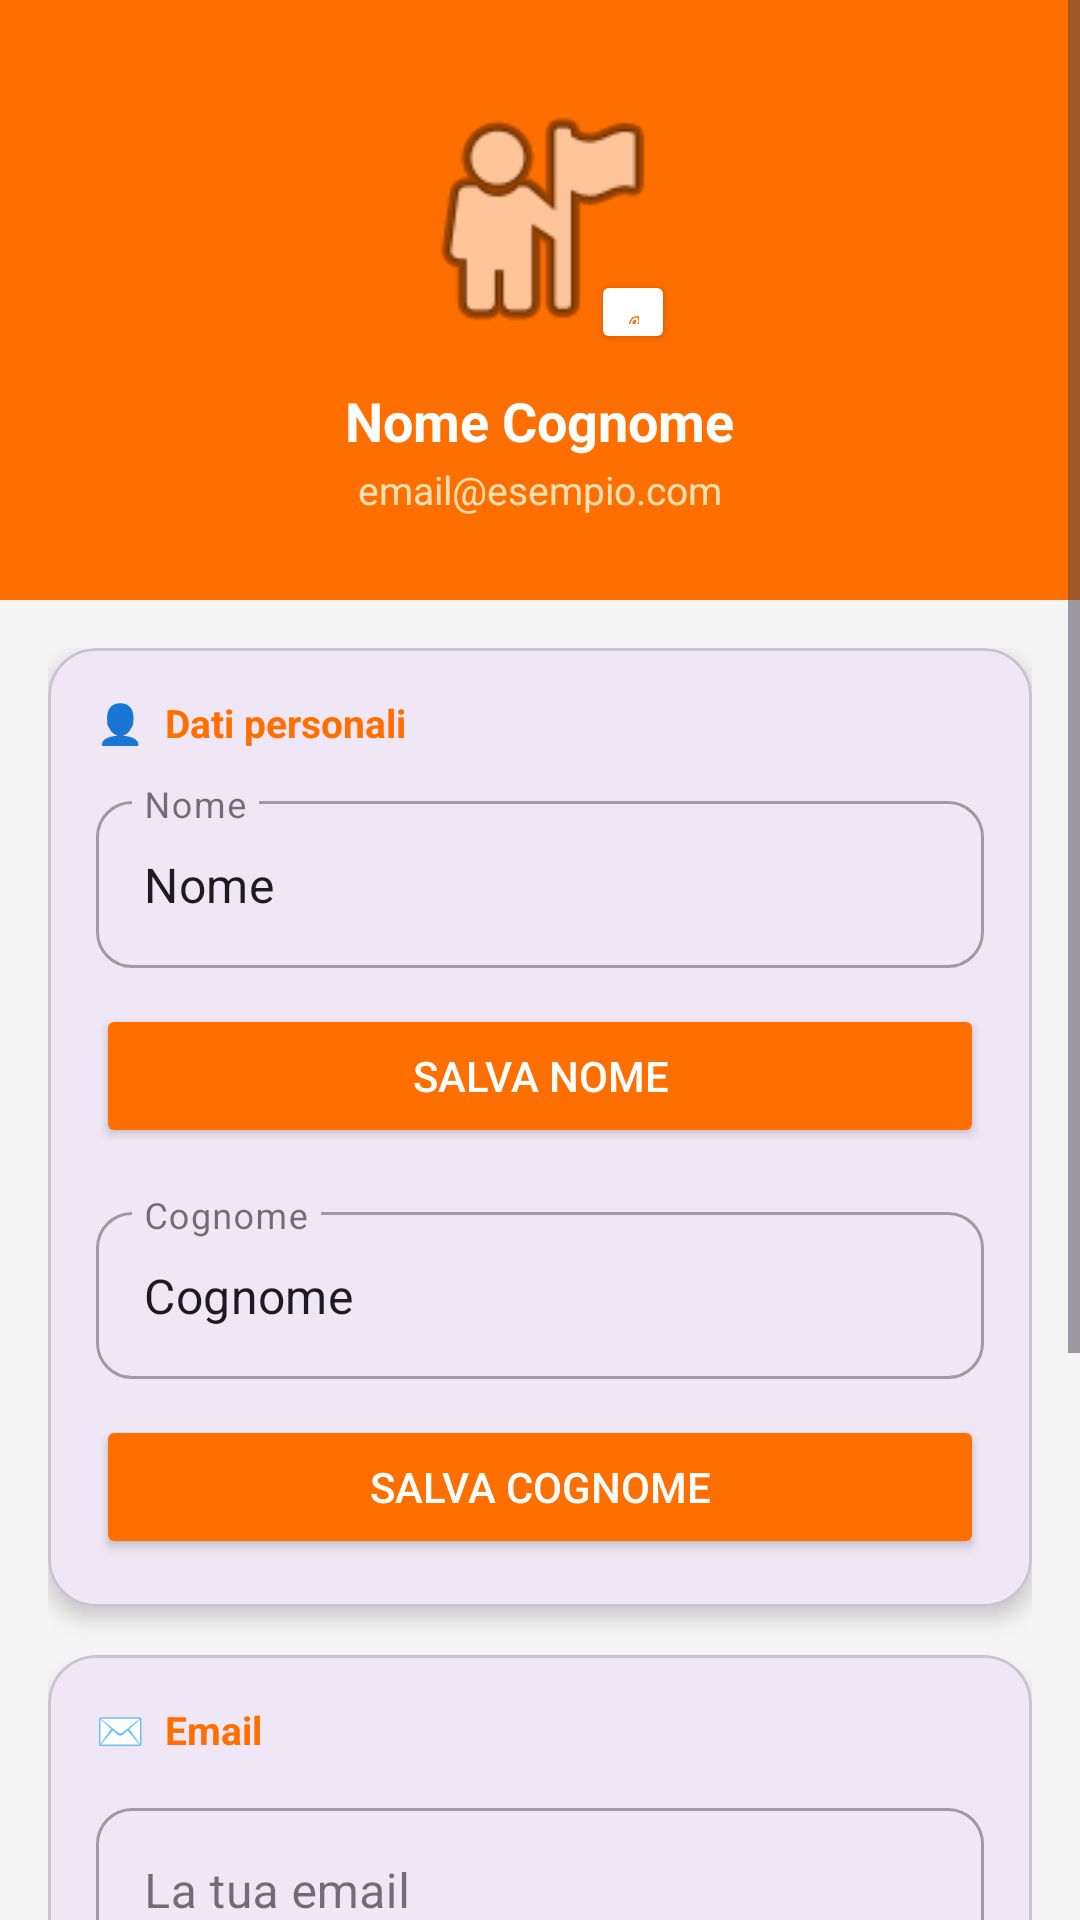

Icon click points for this 1080x1920 phone screenshot, format (x=x, y=y):
myplaces: (x=552, y=227)
